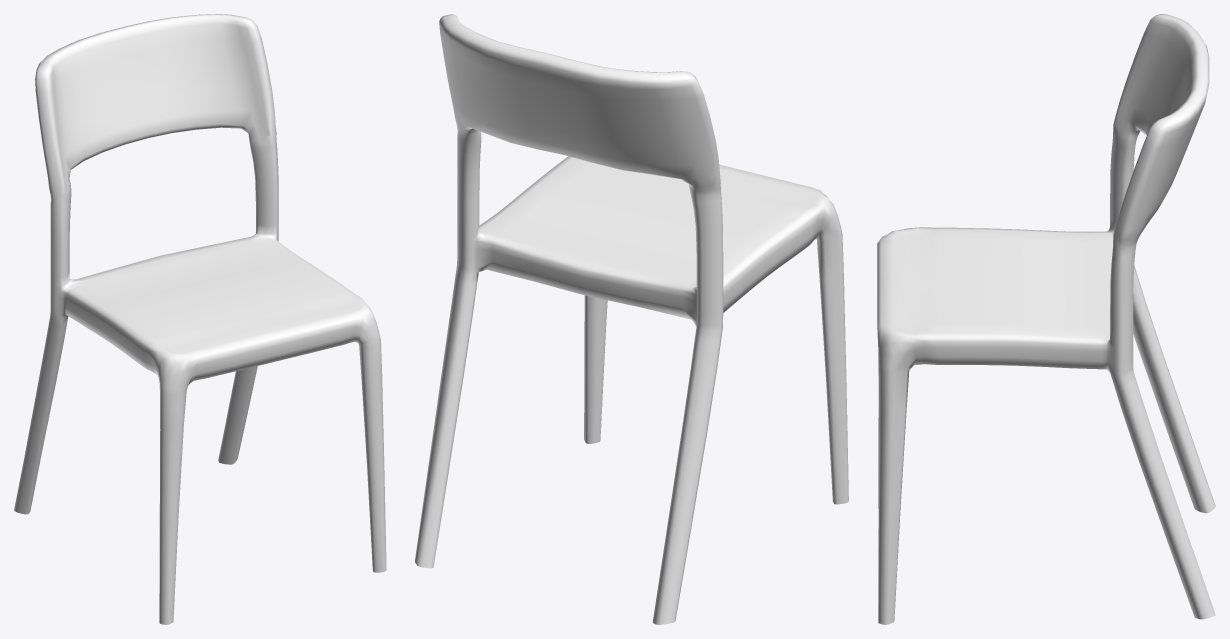
Rendered from Chair.FBX.
The picture shows the model from 3 angles, left to right: view 1: azimuth 30°, elevation 25°; view 2: azimuth 150°, elevation 25°; view 3: azimuth 270°, elevation 25°; orthographic projection. The views are drawn at different scales.
Visible parts, largest first — view 1: Chair; view 2: Chair; view 3: Chair.
Boxes of the visible parts, x1=… form: Chair: x1=14, y1=14, x2=386, y2=624; Chair: x1=415, y1=14, x2=848, y2=624; Chair: x1=877, y1=14, x2=1215, y2=624.
Size of the model in its own units: 49.05 by 94.83 by 57.91.
Materials: 1 (1 with a texture image).
